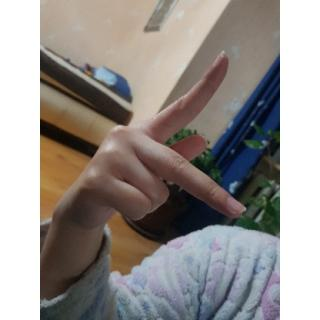DHAA: (50, 45, 255, 226)
